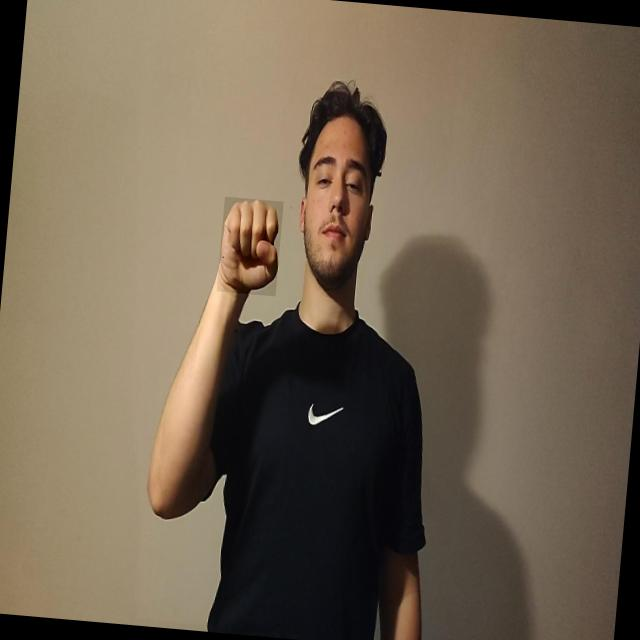yes: (216, 196, 283, 298)
